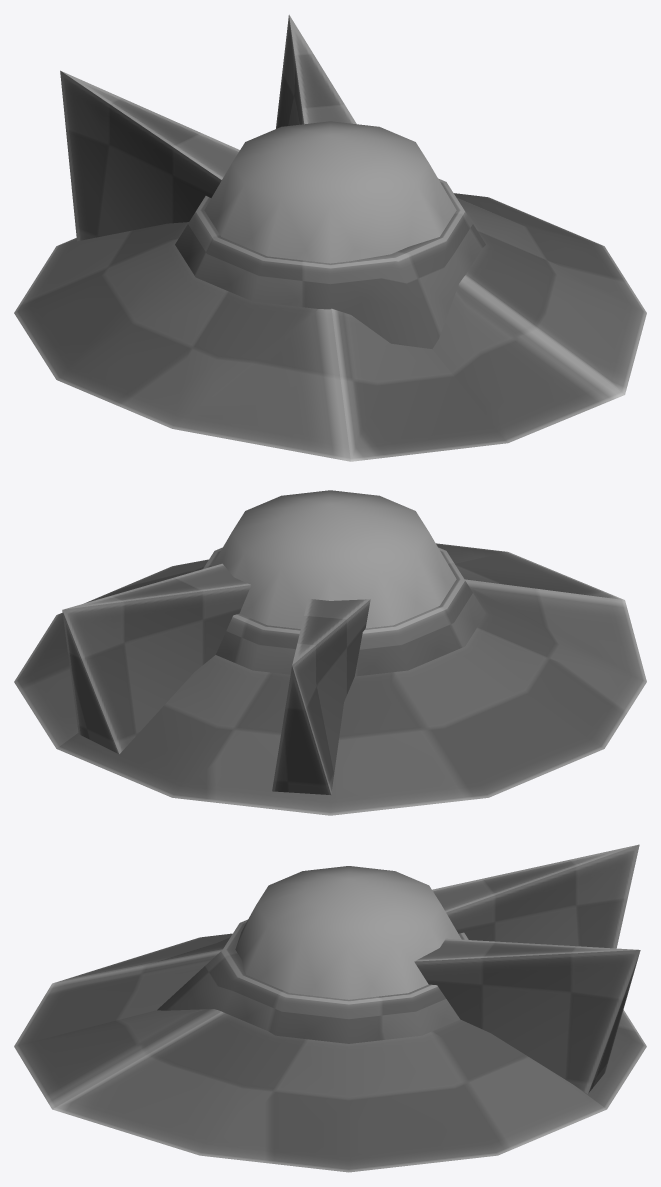
The model's file is flyingSaucer566.FBX.
3 views of the same model, one above another, from view 1: azimuth 30°, elevation 25°; view 2: azimuth 150°, elevation 25°; view 3: azimuth 270°, elevation 25° (orthographic). The views are drawn at different scales.
Parts seen in each view (by area): view 1: flyingSaucer; view 2: flyingSaucer; view 3: flyingSaucer.
Boxes of the visible parts, x1,y1,x2,y2 form: flyingSaucer: (14, 14, 646, 461); flyingSaucer: (14, 490, 646, 815); flyingSaucer: (14, 844, 646, 1172).
Size of the model in its own units: 107 by 33.25 by 114.
